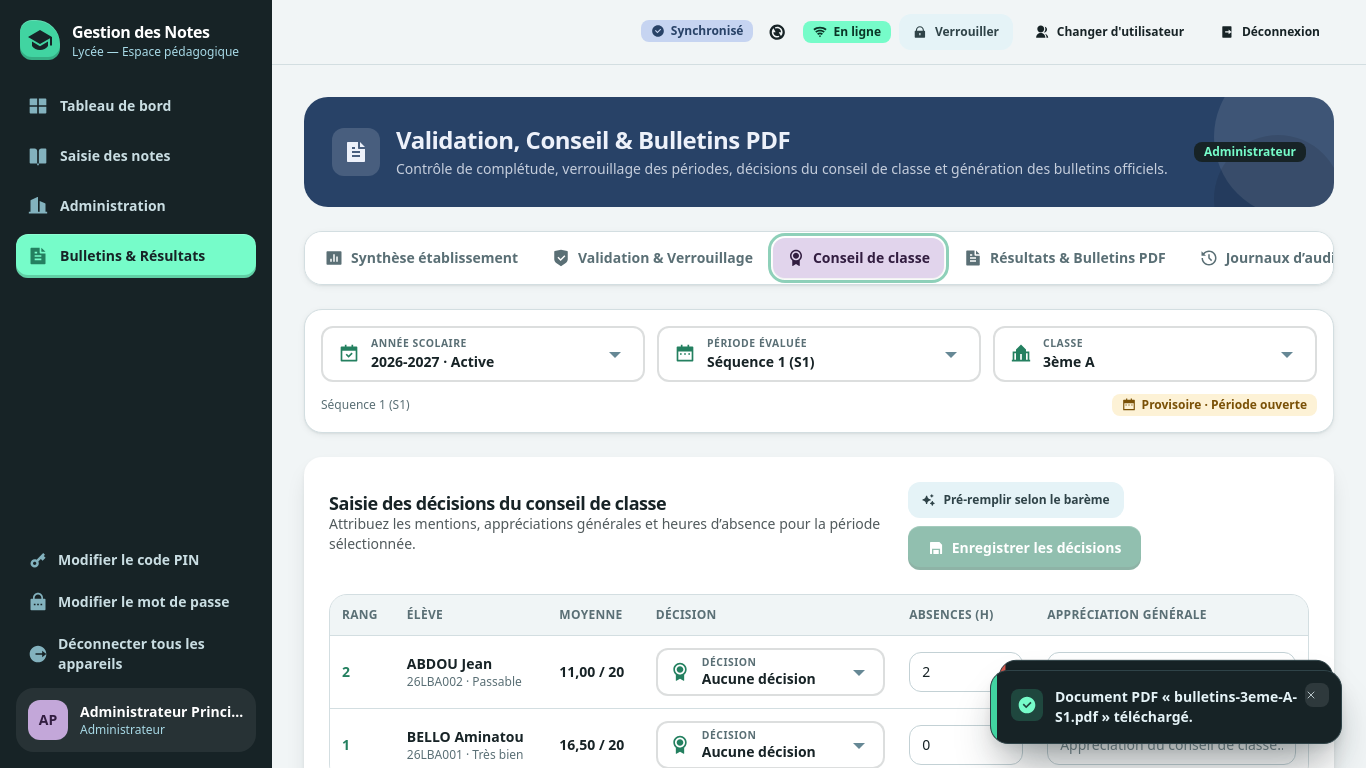
Scenario: /reports Stats, Council Decisions, Results, Audit & PDF downloads › displays school stats, navigates to class results, saves council decisions, exports PDFs, and renders audit logs
Earlier steps of the test are not shown.
Click the button "Pré-remplir selon le barème".
click(1016, 500)  # box [908,482,1124,518]
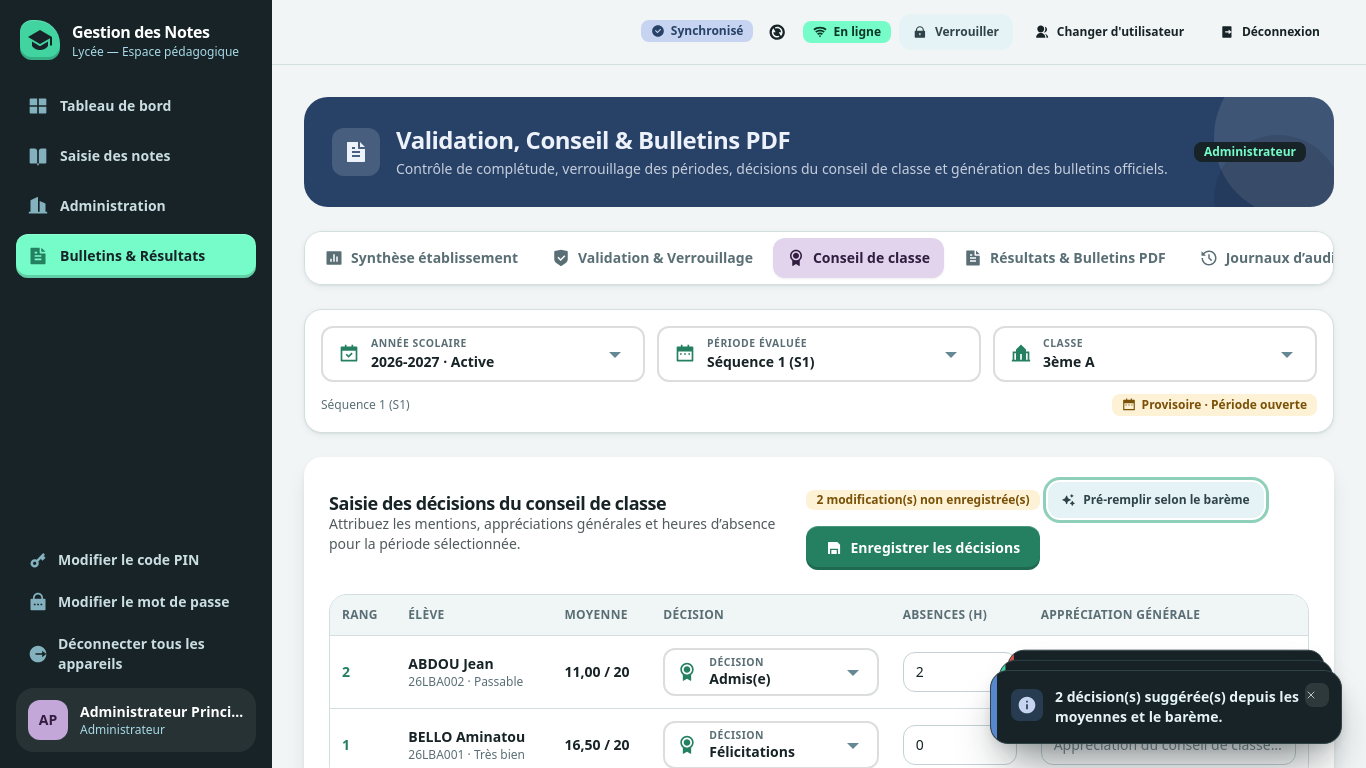
Click the button "Enregistrer les décisions".
click(923, 548)  # box [806,526,1040,570]
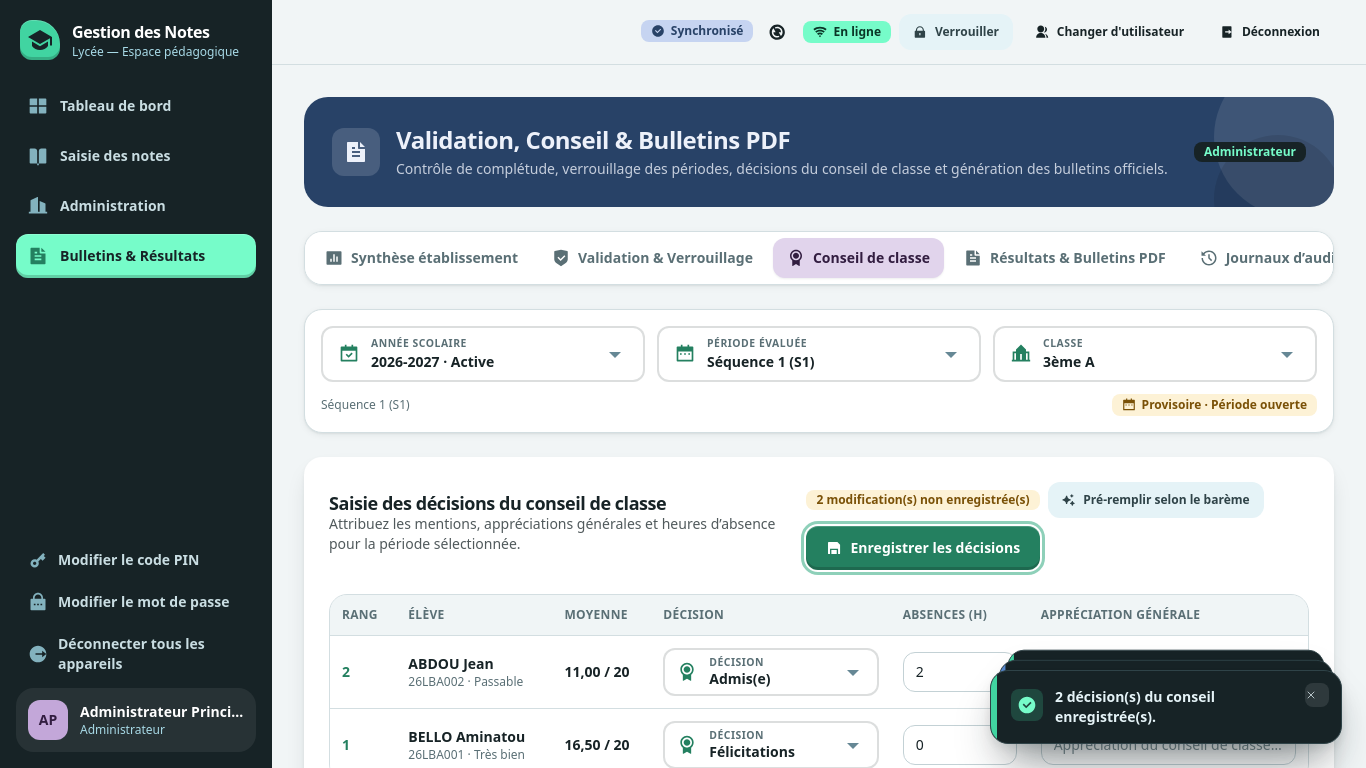
Click the tab "Journaux d’audit".
click(1270, 258)  # box [1186,238,1355,278]
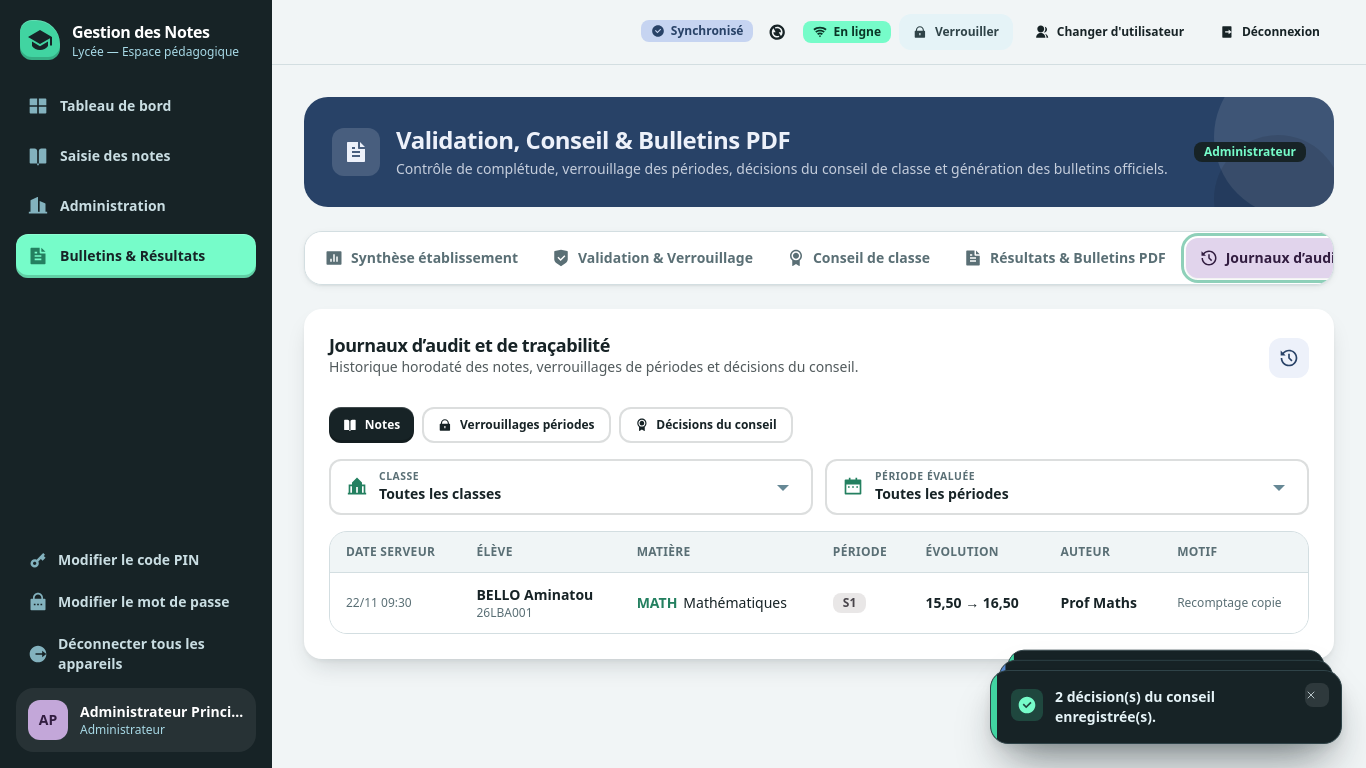
expect the text "15,50 → 16,50" is shown: met, box [926,592,1019,612]
expect the text "Recomptage copie" is shown: met, box [1161,572,1308,632]
